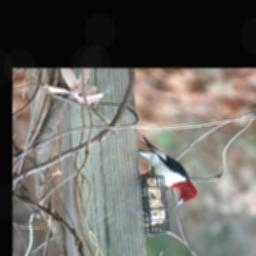Woodpecker: (132, 133, 203, 210)
